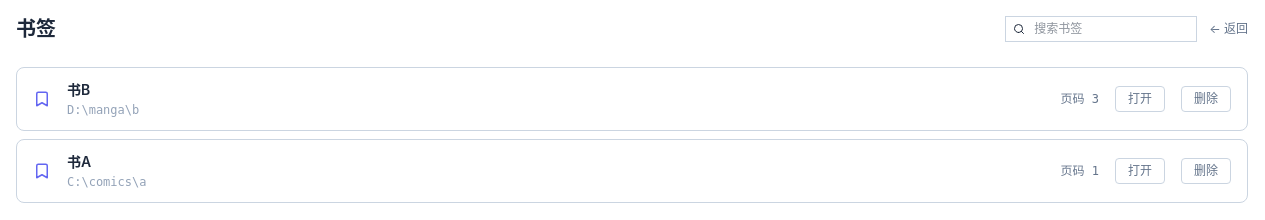
it: Bookmarks.vue 聚合模式（无 bookId，侧栏入口） › 聚合模式搜索：按书名过滤，无结果显示「没有匹配项」
The image size is (1265, 220).
In the field with test id "list-search-input": (1101, 29) [1005,16,1197,42], type "书A"
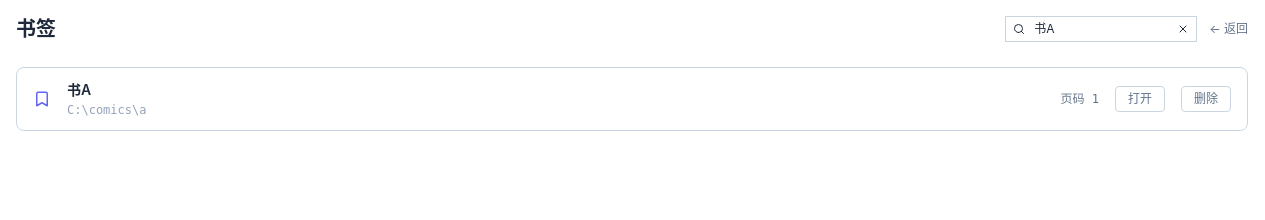
Expected: the list item with test id "row" shows "书A", [67,81,91,98]
Now the number of list items with test id "row" is 1, box [16,67,1248,131]
Replace the text in the field with test id "list-search-input" with "zzz不存在": (1101, 29) [1005,16,1197,42]
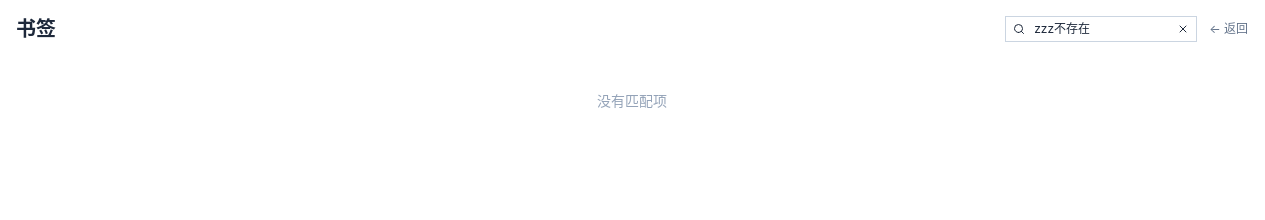
Now the text "没有匹配项" is shown, box [597,92,667,109]
